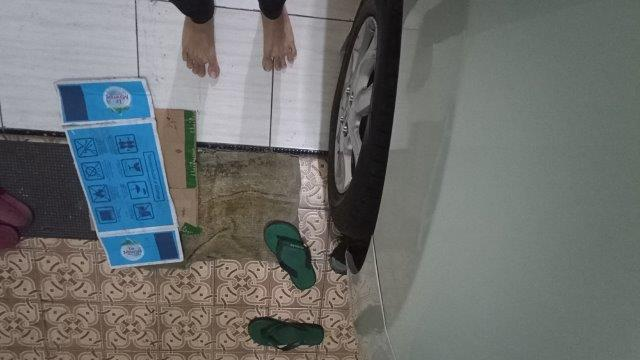kardus: (56, 80, 195, 266)
